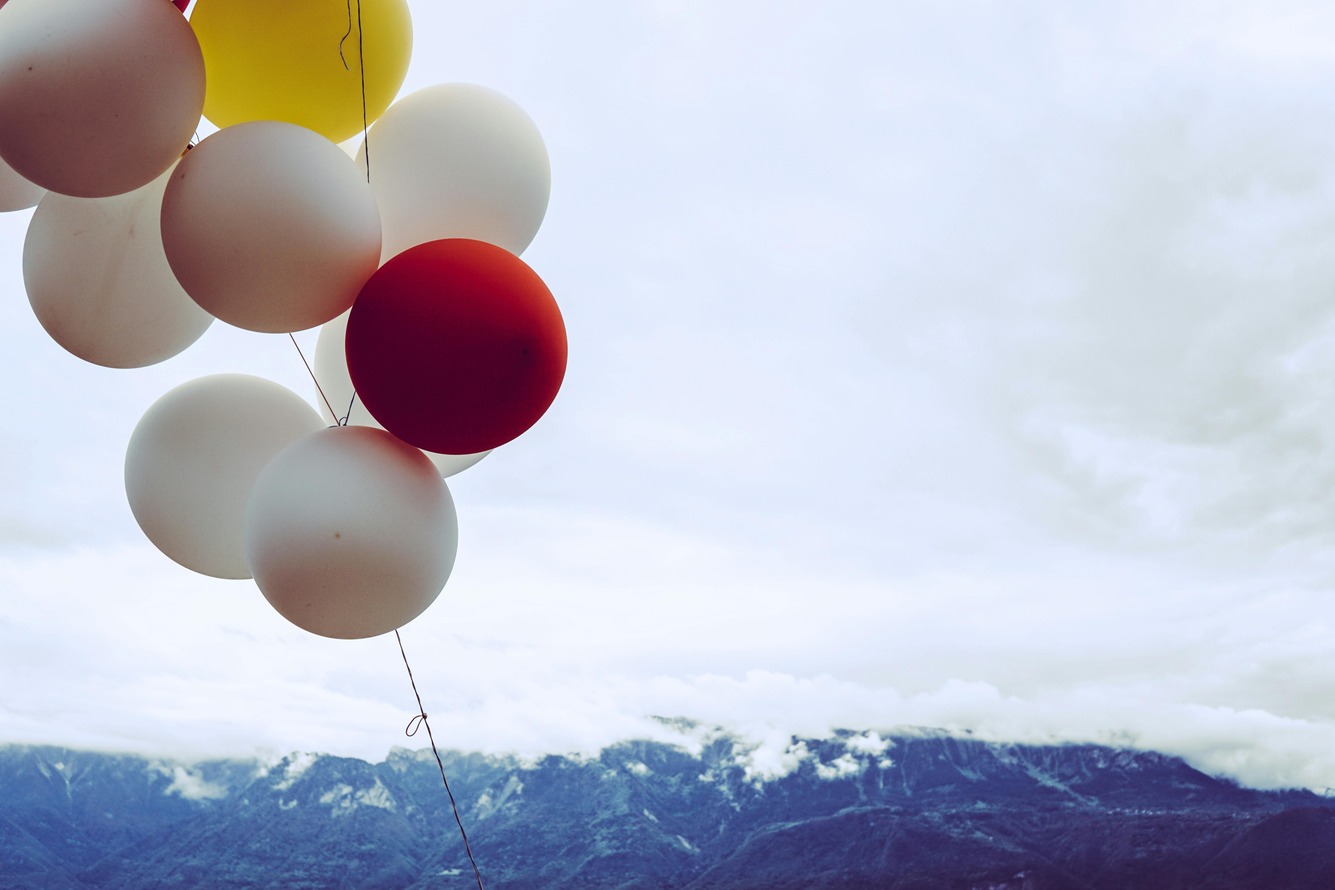balloon: (346, 238, 567, 454), (161, 121, 382, 333), (247, 427, 458, 639), (125, 374, 323, 579), (0, 0, 205, 197), (22, 167, 214, 368), (356, 84, 550, 264), (190, 0, 412, 143), (311, 312, 380, 427), (0, 158, 47, 212), (425, 451, 489, 478)
